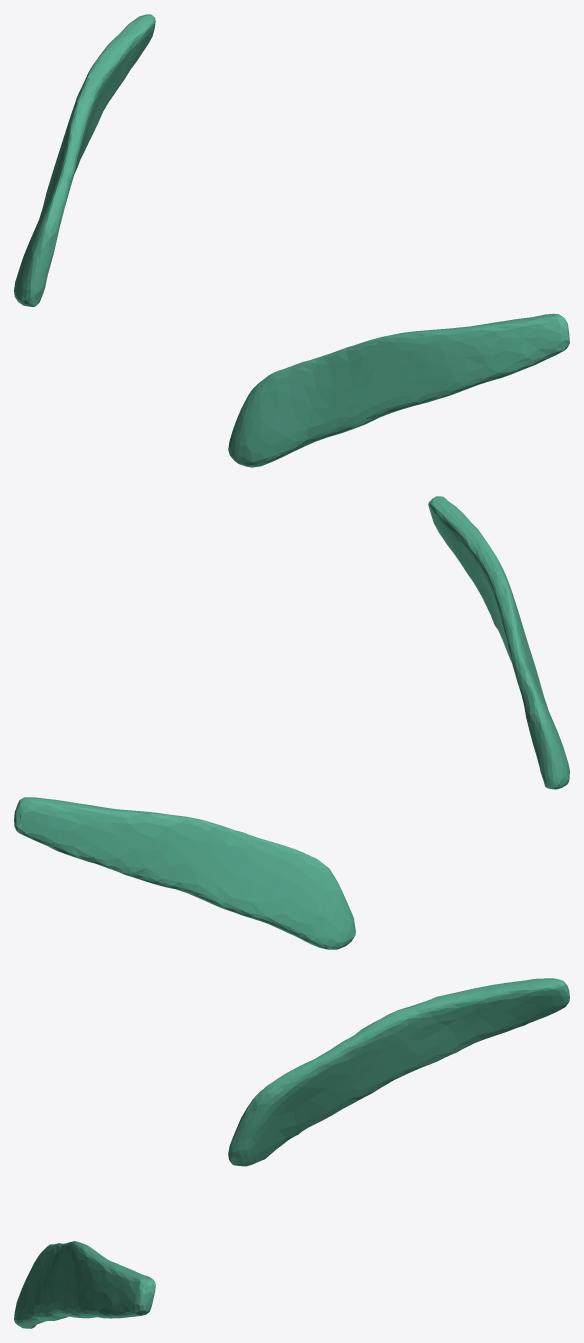
3 renders of one model, top to bottom at view 1: azimuth 30°, elevation 25°; view 2: azimuth 150°, elevation 25°; view 3: azimuth 330°, elevation 25°, orthographic.
Visible parts, largest first — view 1: 328.obj; view 2: 328.obj; view 3: 328.obj.
Boxes of the visible parts, x1,y1,x2,y2 form: 328.obj: (14,14,569,467); 328.obj: (14,496,569,949); 328.obj: (14,978,569,1328).
Bounding box in the file's own units: 2526 × 1709 × 7940.
